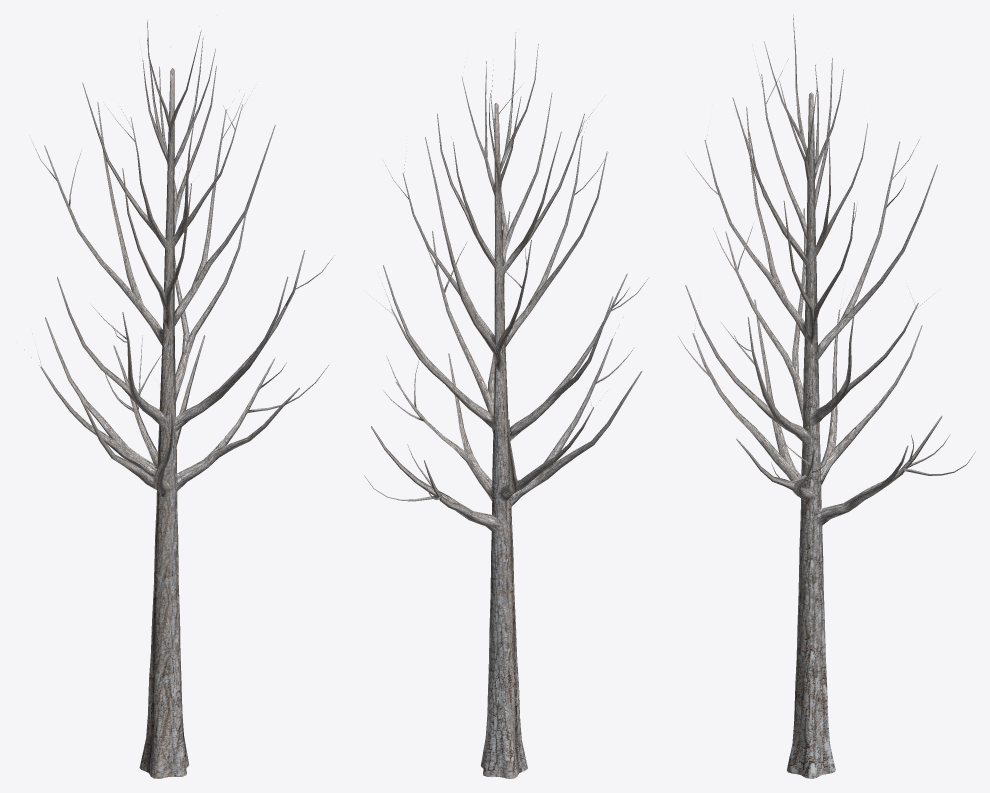
Rendered from longDead.fbx.
The picture shows the model from 3 angles, left to right: view 1: azimuth 30°, elevation 25°; view 2: azimuth 150°, elevation 25°; view 3: azimuth 270°, elevation 25°; orthographic projection. The views are drawn at different scales.
Visible parts, largest first — view 1: Tree_0; view 2: Tree_0; view 3: Tree_0.
Part boxes in pixels (x1,y1,x2,y2): Tree_0: (29, 20, 334, 778); Tree_0: (364, 32, 649, 778); Tree_0: (678, 14, 975, 778).
Bounding box in the file's own units: 41.48 × 111 × 39.88.
Materials: 1 (1 with a texture image).
